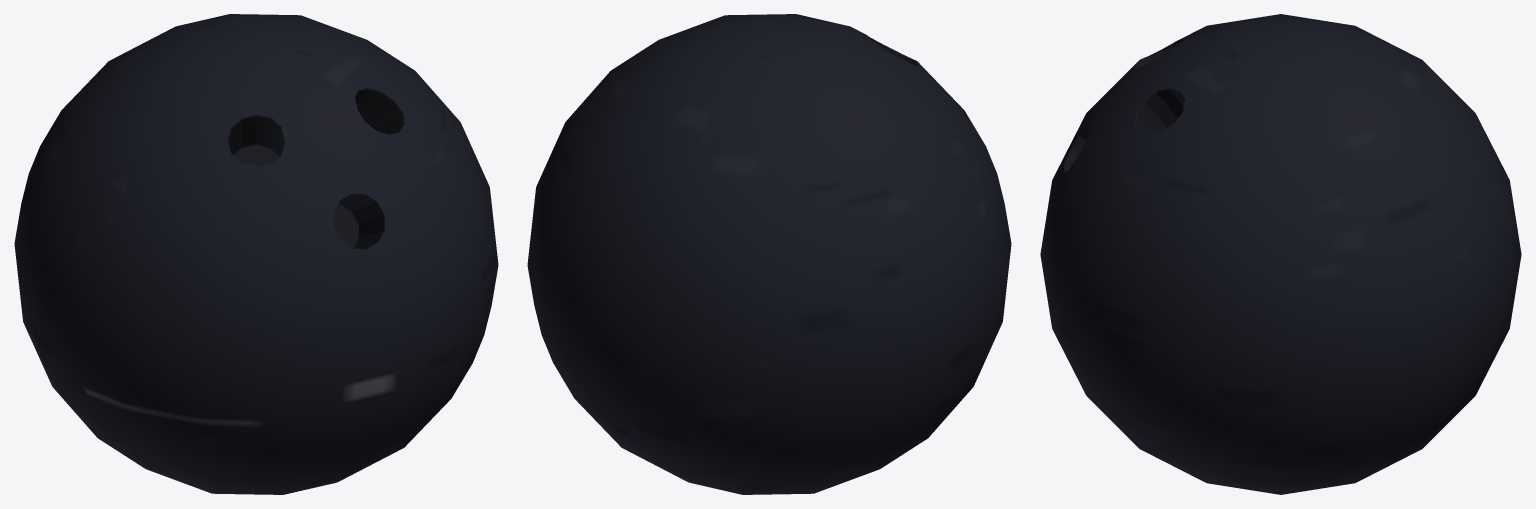
The model's file is bowling_ball_black.glb.
The picture shows the model from 3 angles, left to right: view 1: azimuth 30°, elevation 25°; view 2: azimuth 150°, elevation 25°; view 3: azimuth 270°, elevation 25°; orthographic projection.
Parts seen in each view (by area): view 1: arcade_bowling_ball_black; view 2: arcade_bowling_ball_black; view 3: arcade_bowling_ball_black.
Part boxes in pixels (bbox=[...]): arcade_bowling_ball_black: bbox=[14, 14, 498, 494]; arcade_bowling_ball_black: bbox=[527, 14, 1011, 494]; arcade_bowling_ball_black: bbox=[1040, 14, 1521, 494].
Bounding box in the file's own units: 0.216 × 0.216 × 0.216.
1 material, 1 textured.
